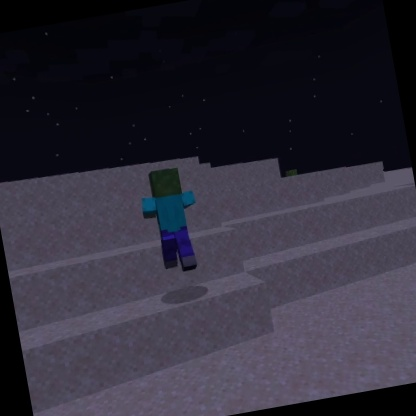zombie: (131, 160, 213, 280)
